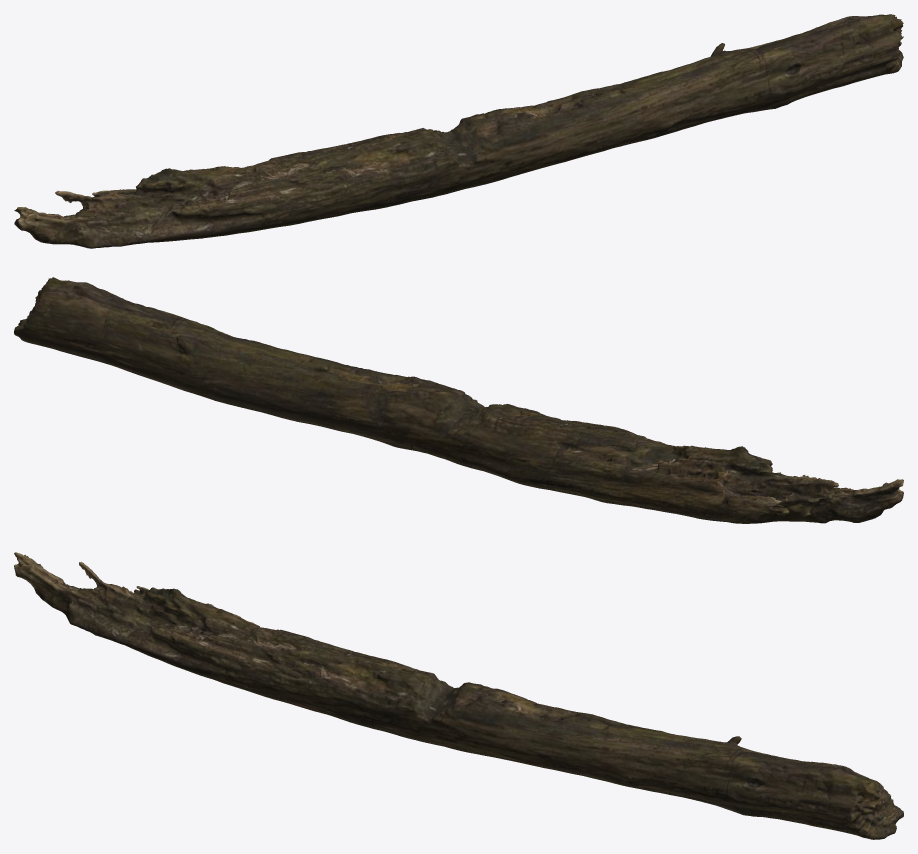
Rendered from cc0_deadtree.glb.
3 renders of one model, top to bottom at view 1: azimuth 30°, elevation 25°; view 2: azimuth 150°, elevation 25°; view 3: azimuth 330°, elevation 25°, orthographic.
Visible parts, largest first — view 1: dead_tree_trunk; view 2: dead_tree_trunk; view 3: dead_tree_trunk.
Boxes of the visible parts, bbox=[...] form: dead_tree_trunk: bbox=[14, 14, 903, 248]; dead_tree_trunk: bbox=[14, 277, 903, 523]; dead_tree_trunk: bbox=[14, 552, 903, 839].
Size of the model in its own units: 3.05 by 0.2904 by 0.2773.
1 material, 1 textured.
